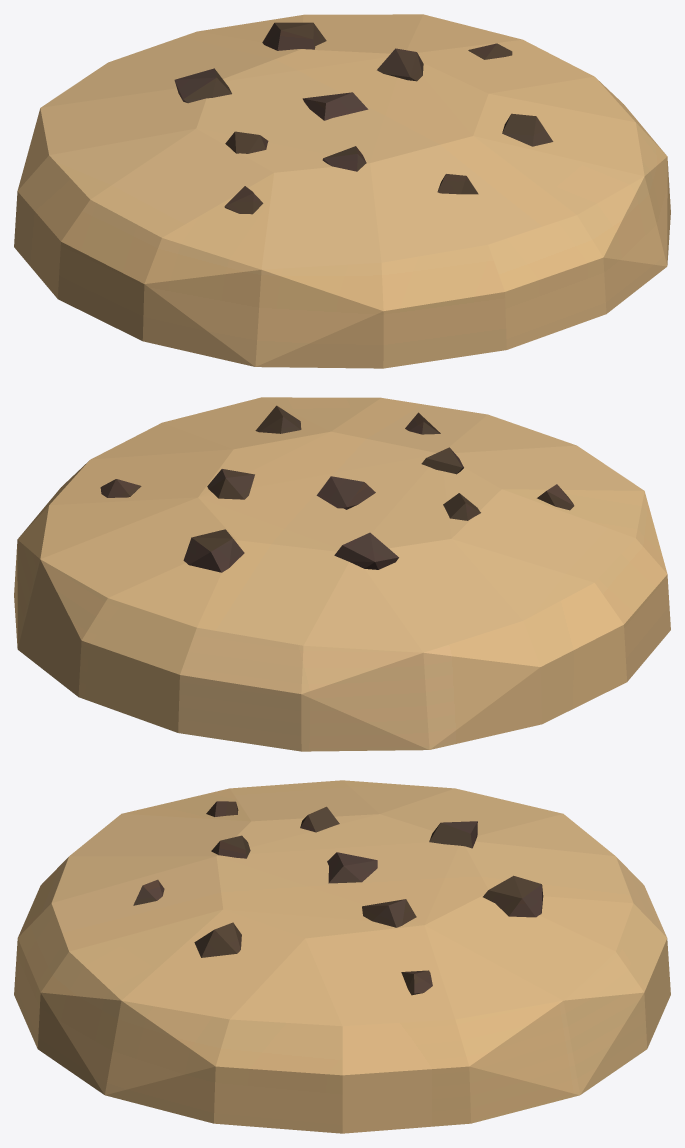
3 renders of one model, top to bottom at view 1: azimuth 30°, elevation 25°; view 2: azimuth 150°, elevation 25°; view 3: azimuth 270°, elevation 25°, orthographic.
Visible parts, largest first — view 1: Cube.003_Cube.025; view 2: Cube.003_Cube.025; view 3: Cube.003_Cube.025.
Part boxes in pixels (x1,y1,x2,y2): Cube.003_Cube.025: (14, 14, 670, 368); Cube.003_Cube.025: (14, 397, 670, 751); Cube.003_Cube.025: (14, 780, 670, 1133).
Size of the model in its own units: 1.38 by 0.3172 by 1.38.
1 material, 1 textured.
